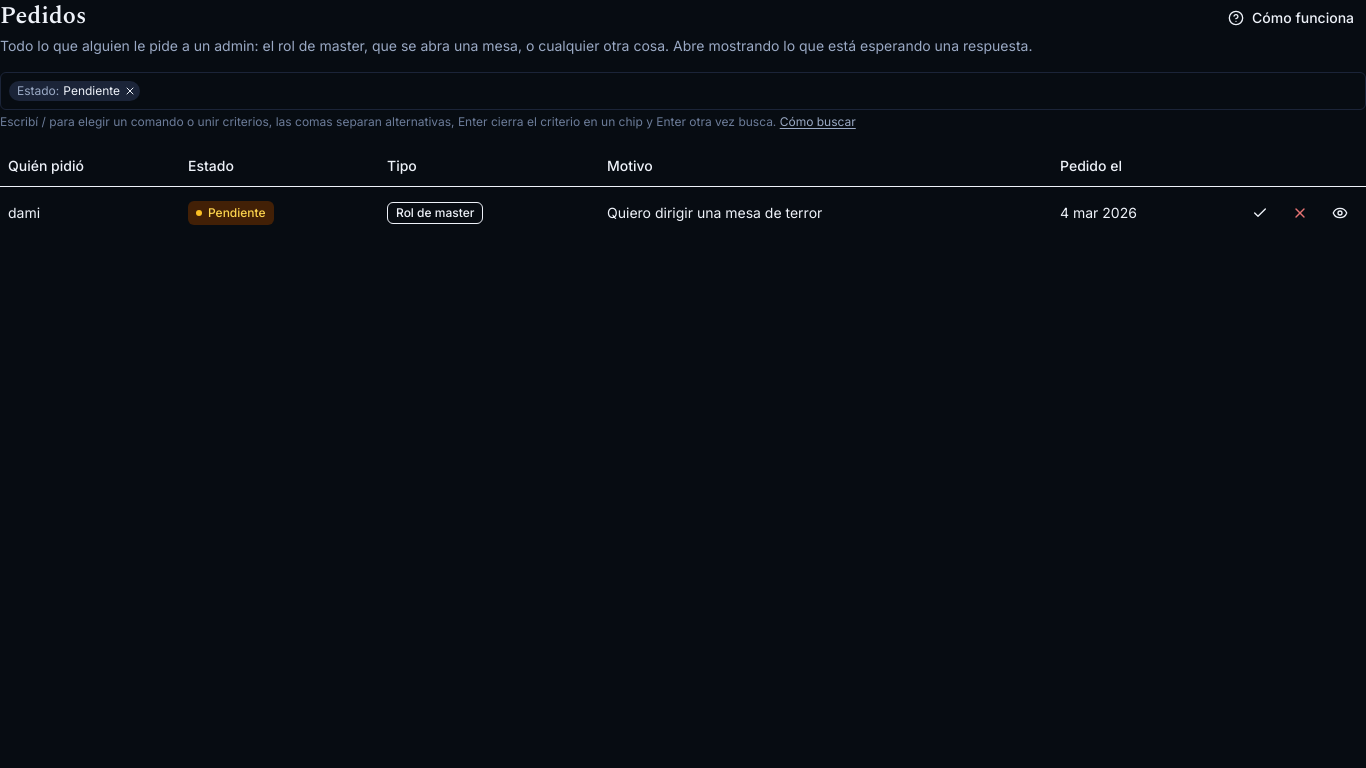
AdminRequestsPage › keeps the reason in view while the answer is written
This screenshot has width=1366, height=768.
What coordinates should you click on to do the following:
click the button named "Rechazar"
I would click on:
 (1300, 212)
Its box is [1282,194,1318,230].
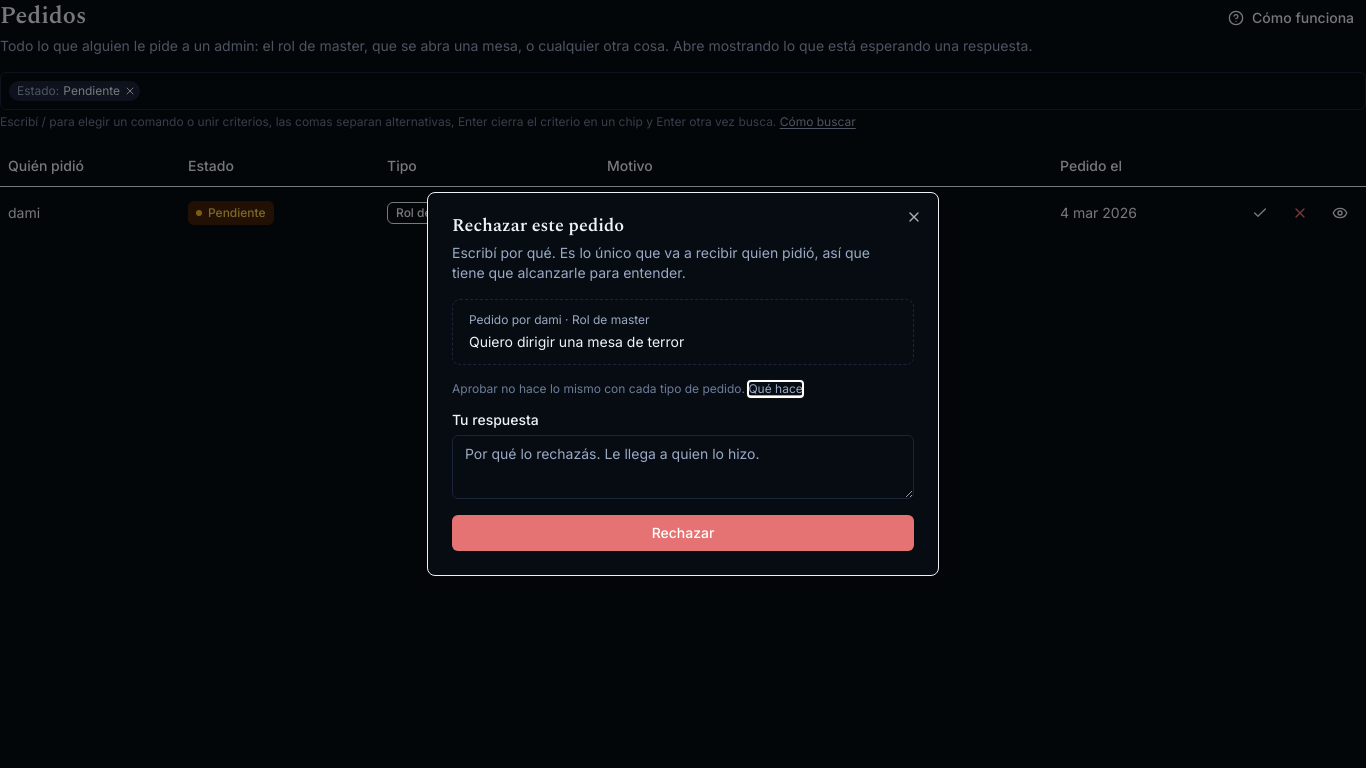
Result: the text "Quiero dirigir una mesa de terror" is shown at [469,333,684,350]
Result: the text "Pedido por dami · Rol de master" is shown at [469,312,650,327]
